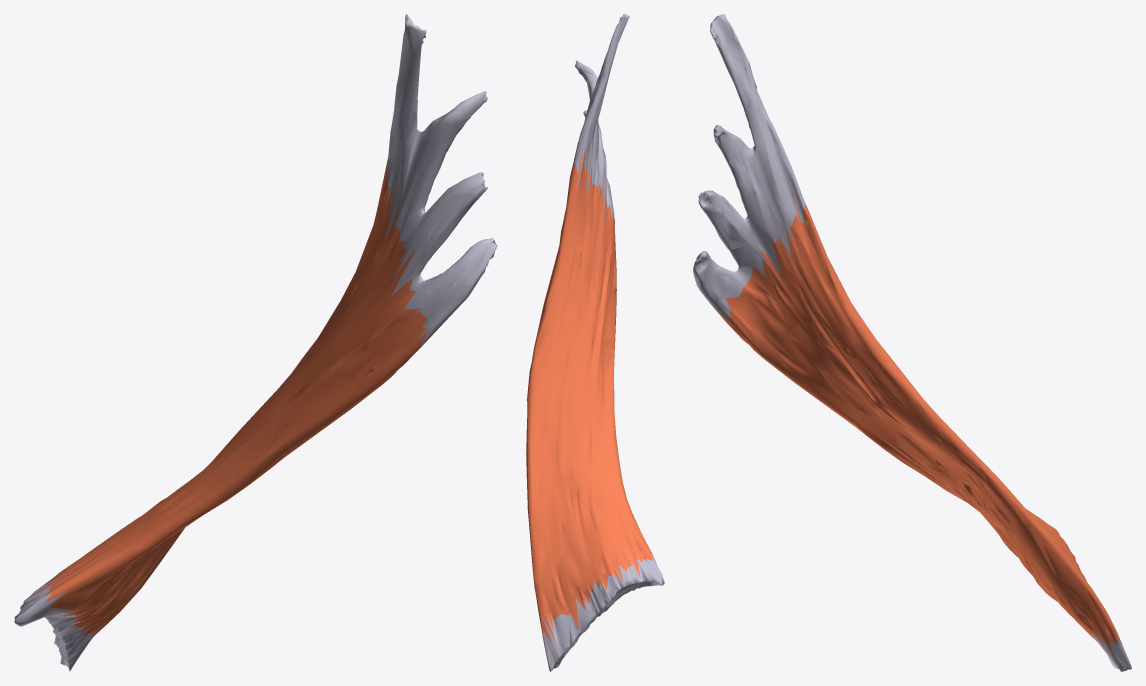
The model's file is Levator_scapulae.r_Generated_Mesh_From_X3D.388.glb.
3 views of the same model, side by side, from view 1: azimuth 30°, elevation 25°; view 2: azimuth 150°, elevation 25°; view 3: azimuth 270°, elevation 25° (orthographic). The views are drawn at different scales.
Visible parts, largest first — view 1: Levator_scapulae.r_Generated_Mesh_From_X3D.388; view 2: Levator_scapulae.r_Generated_Mesh_From_X3D.388; view 3: Levator_scapulae.r_Generated_Mesh_From_X3D.388.
Boxes of the visible parts, left/top/right/bottom form: Levator_scapulae.r_Generated_Mesh_From_X3D.388: left=14, top=14, right=497, bottom=671; Levator_scapulae.r_Generated_Mesh_From_X3D.388: left=526, top=14, right=664, bottom=671; Levator_scapulae.r_Generated_Mesh_From_X3D.388: left=693, top=14, right=1131, bottom=671.
Size of the model in its own units: 0.0614 by 0.1529 by 0.0859.
